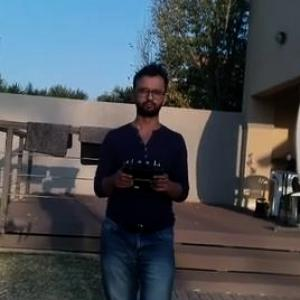follow: (89, 58, 196, 299)
